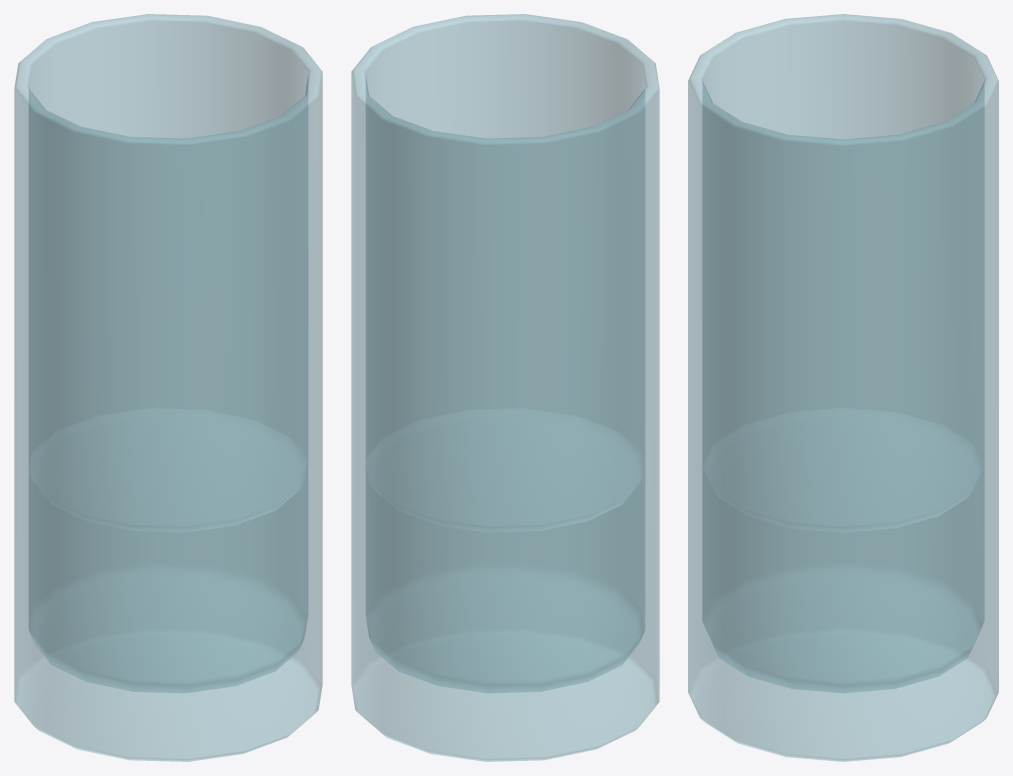
The model's file is consumables-drinks-glassofwater_v2.glb.
The picture shows the model from 3 angles, left to right: view 1: azimuth 30°, elevation 25°; view 2: azimuth 150°, elevation 25°; view 3: azimuth 270°, elevation 25°; orthographic projection.
Parts seen in each view (by area): view 1: GlassOfWater_v2; view 2: GlassOfWater_v2; view 3: GlassOfWater_v2.
Boxes of the visible parts, left/top/right/bottom form: GlassOfWater_v2: left=14, top=14, right=322, bottom=761; GlassOfWater_v2: left=351, top=14, right=659, bottom=761; GlassOfWater_v2: left=688, top=14, right=998, bottom=761.
Bounding box in the file's own units: 0.0158 × 0.0349 × 0.0158.
